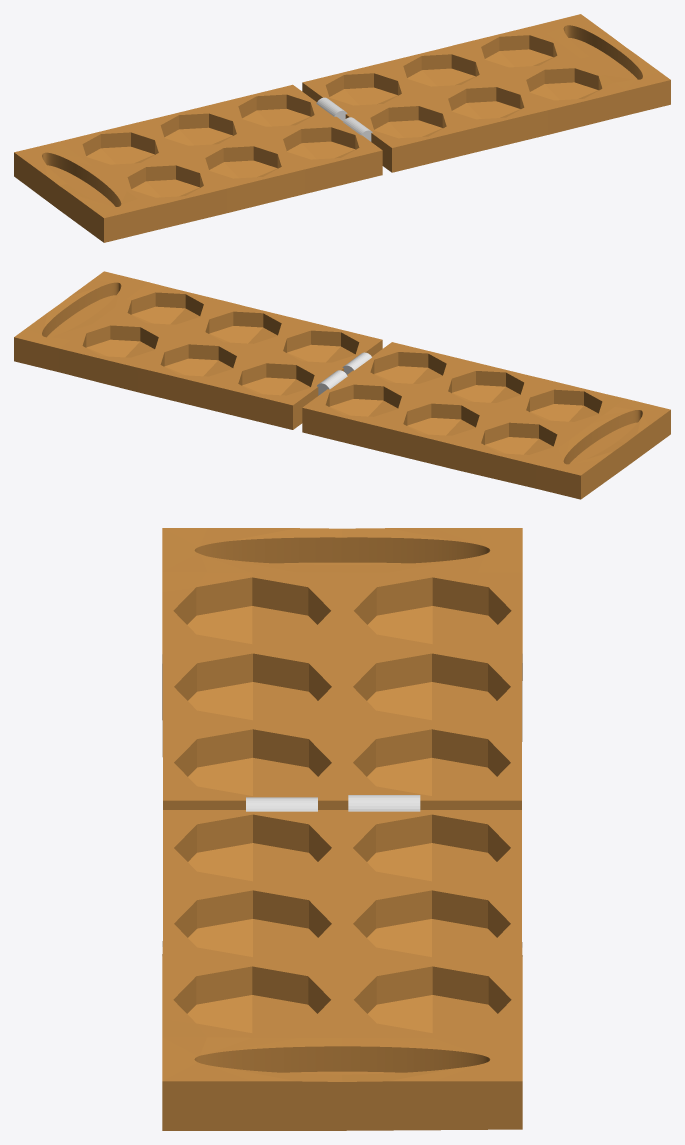
The model's file is mangala.fbx.
3 renders of one model, top to bottom at view 1: azimuth 30°, elevation 25°; view 2: azimuth 150°, elevation 25°; view 3: azimuth 270°, elevation 25°, orthographic. The views are drawn at different scales.
Visible parts, largest first — view 1: Plane.001; view 2: Plane.001, Cylinder; view 3: Plane.001, Cylinder, Cylinder.001.
Boxes of the visible parts, x1,y1,x2,y2 form: Plane.001: (14,14,670,242); Plane.001: (14,271,670,499); Cylinder: (317,370,347,395); Plane.001: (162,528,522,1130); Cylinder: (348,795,420,811); Cylinder.001: (246,797,317,811).
Size of the model in its own units: 1455 by 71.42 by 400.
